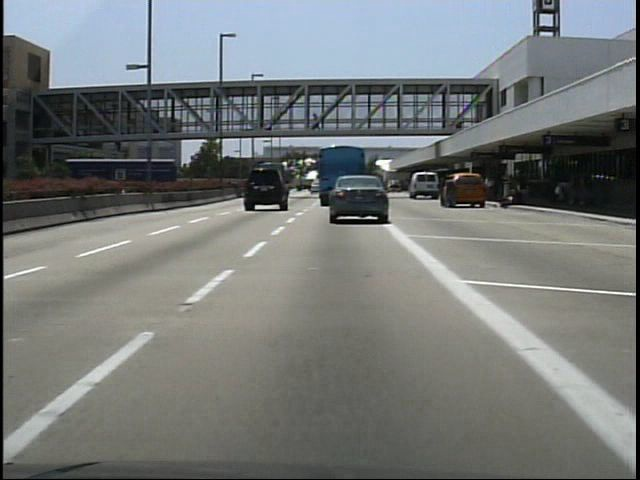person: (442, 176, 460, 215), (250, 109, 265, 132), (310, 112, 323, 137)
